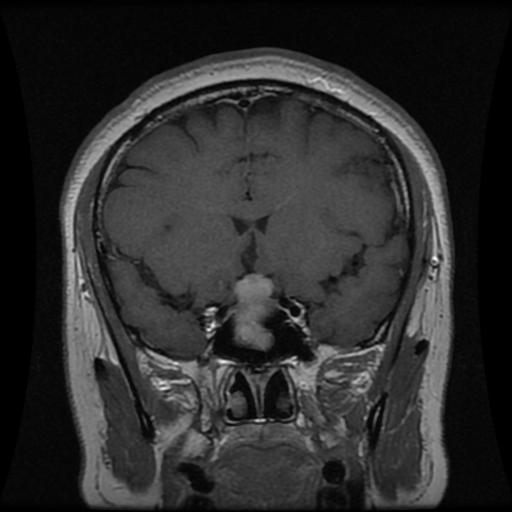Pituirity_tumour: (232, 273, 274, 348)
